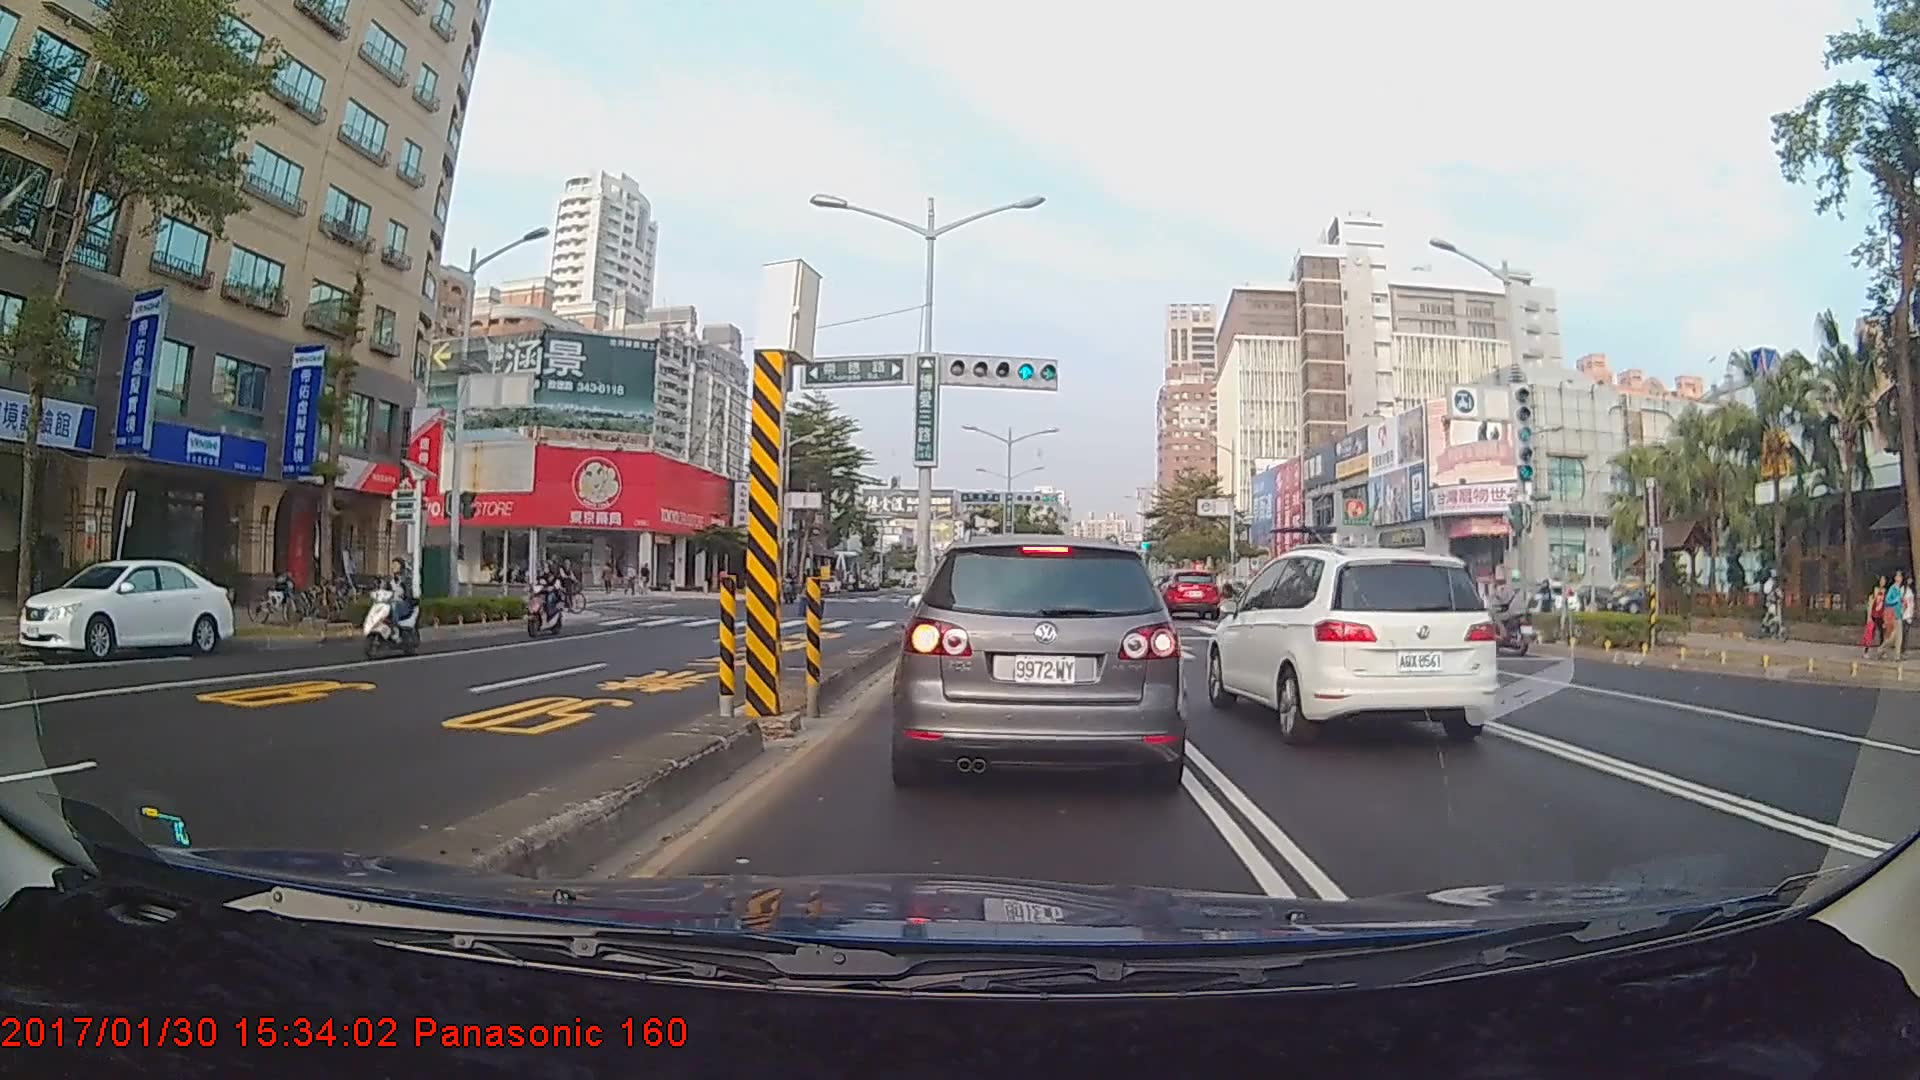pedestrian: (1862, 573, 1891, 659), (1881, 572, 1907, 663), (1887, 572, 1911, 660)
rider: (353, 557, 429, 662), (1470, 565, 1535, 653), (525, 565, 571, 641), (1752, 561, 1794, 646), (561, 557, 596, 618)
vehicle: (897, 531, 1183, 789), (1205, 541, 1496, 750), (19, 555, 231, 662), (1154, 569, 1220, 620)
